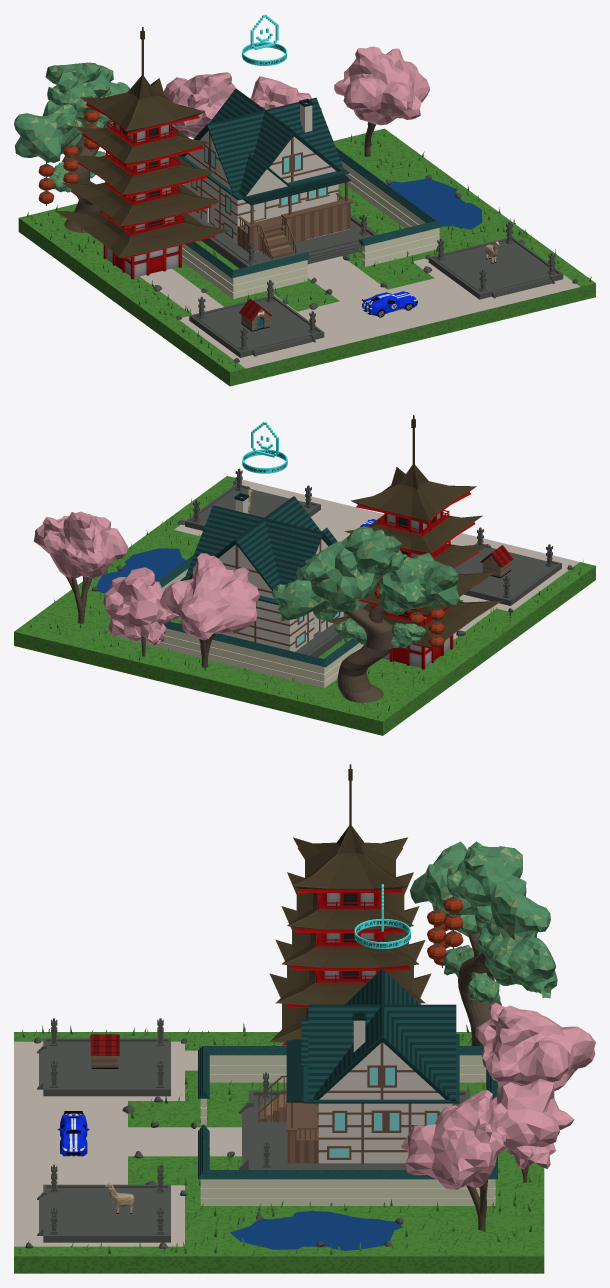
3 views of the same model, one above another, from view 1: azimuth 30°, elevation 25°; view 2: azimuth 150°, elevation 25°; view 3: azimuth 270°, elevation 25° (orthographic). The views are drawn at different scales.
Visible parts, largest first — view 1: Cube.005, Cube.793, VEHICLES_RACING_CAR, TYPE_PREMIUM, OBJRANDOM_DOGHOUSE; view 2: Cube.005, Cube.793, TYPE_PREMIUM, OBJRANDOM_DOGHOUSE; view 3: Cube.005, Cube.793, VEHICLES_RACING_CAR, OBJRANDOM_DOGHOUSE, TYPE_PREMIUM.
Part boxes in pixels (bbox=[...]): Cube.005: bbox=[14, 26, 595, 386]; Cube.793: bbox=[178, 88, 353, 259]; VEHICLES_RACING_CAR: bbox=[361, 291, 417, 317]; TYPE_PREMIUM: bbox=[242, 14, 286, 65]; OBJRANDOM_DOGHOUSE: bbox=[239, 298, 271, 331]; Cube.005: bbox=[14, 415, 595, 735]; Cube.793: bbox=[180, 493, 345, 651]; TYPE_PREMIUM: bbox=[242, 421, 287, 473]; OBJRANDOM_DOGHOUSE: bbox=[480, 545, 513, 578]; Cube.005: bbox=[14, 764, 595, 1273]; Cube.793: bbox=[258, 969, 459, 1163]; VEHICLES_RACING_CAR: bbox=[57, 1111, 89, 1156]; OBJRANDOM_DOGHOUSE: bbox=[90, 1034, 119, 1068]; TYPE_PREMIUM: bbox=[354, 884, 410, 948].
Bounding box in the file's own units: 4528 × 2668 × 4389.
Materials: 43 (7 with a texture image).
